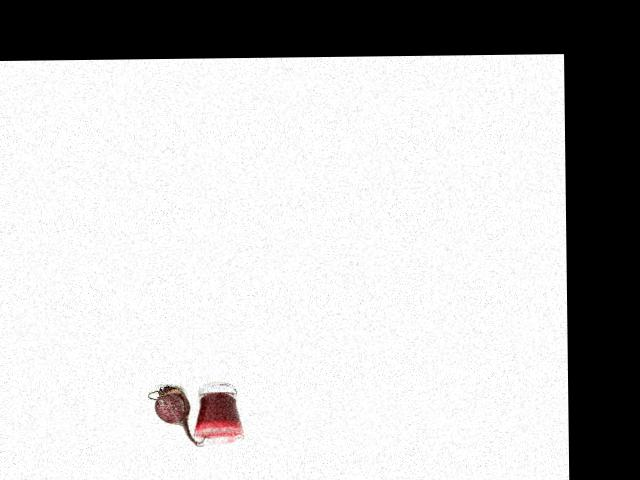beet: (148, 384, 212, 447)
